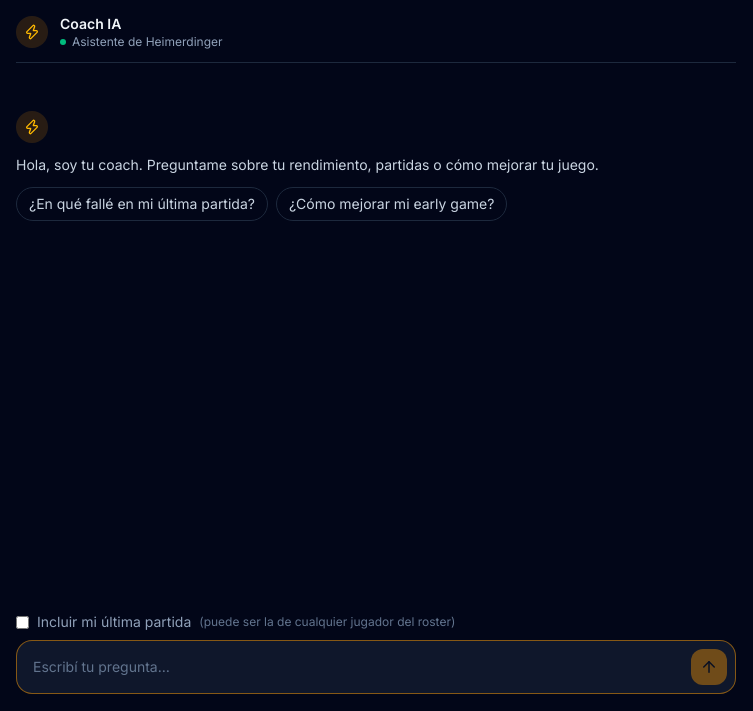
coach chat › sends lastMatch flag when the toggle is on
Click the checkbox labelled "última partida". click: (22, 622)
box: [16,616,29,628]
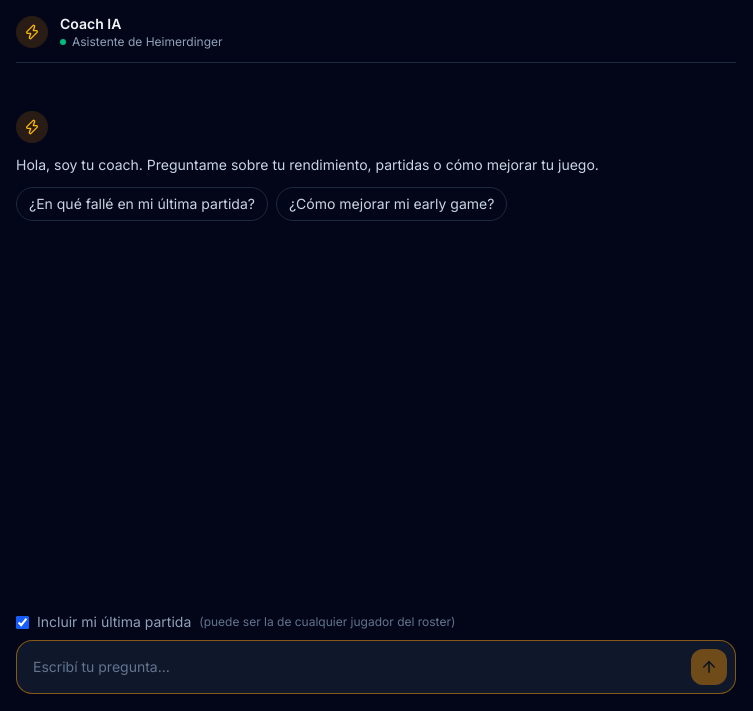
Type "¿Qué jugué?" into the field with placeholder "Escribí tu pregunta…". click: (354, 667)
box: [25,649,683,685]
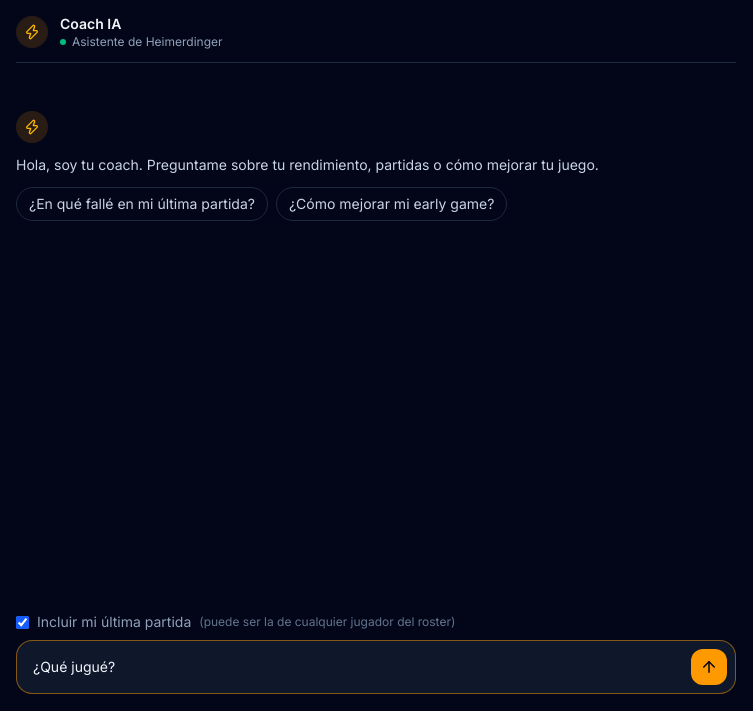
Click the button named "enviar". click: (709, 667)
box: [691,649,727,685]
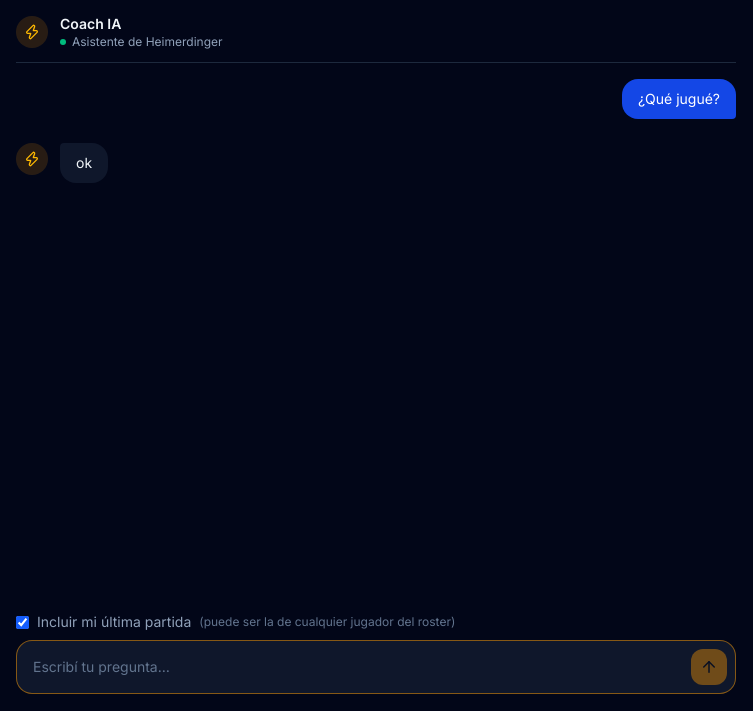
Expected: the text "ok" is shown, [60,143,108,183]
